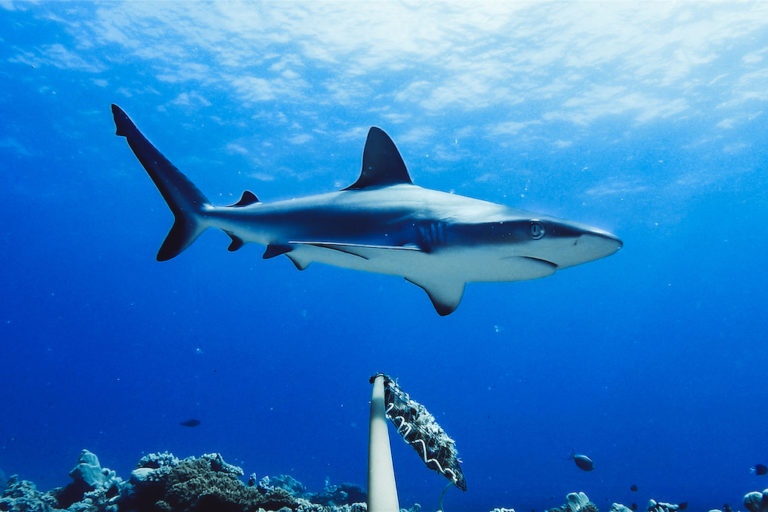shark: (96, 98, 633, 322)
